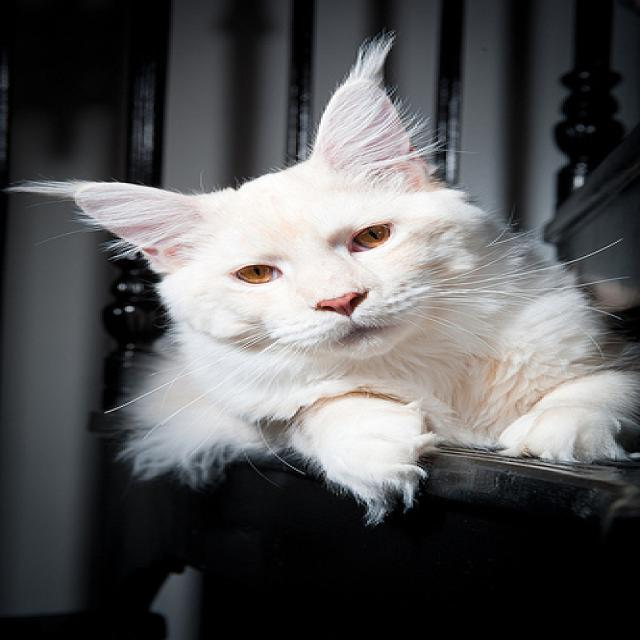Maine_Coon: (41, 34, 491, 362)
